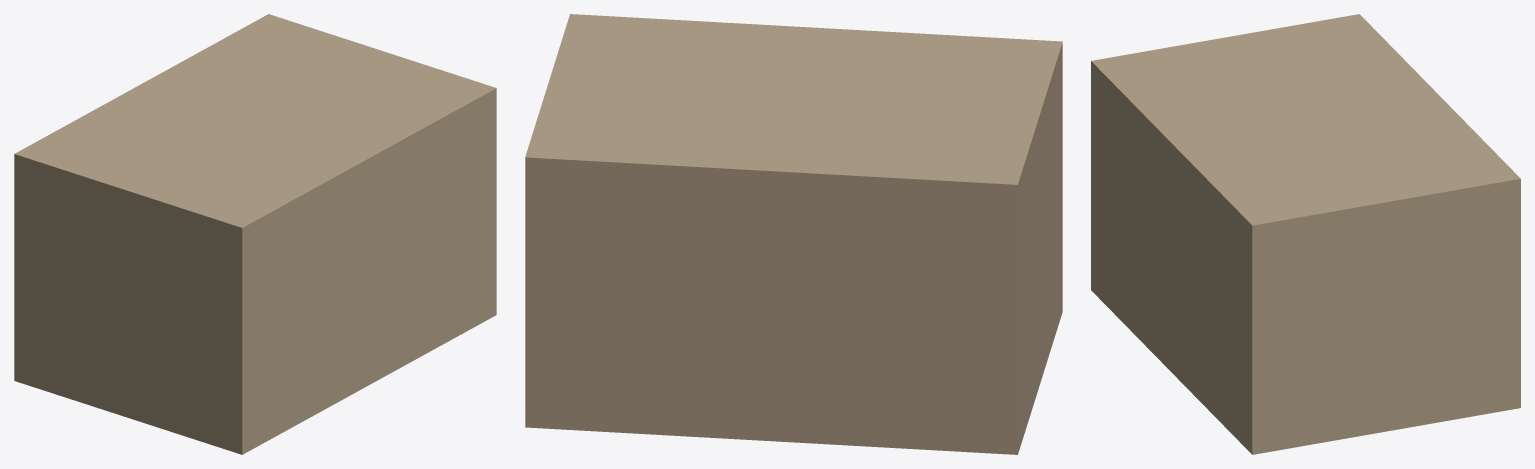
The model's file is bld_106338920.dae.
3 views of the same model, side by side, from view 1: azimuth 30°, elevation 25°; view 2: azimuth 150°, elevation 25°; view 3: azimuth 270°, elevation 25° (orthographic). The views are drawn at different scales.
Visible parts, largest first — view 1: bld_106338920; view 2: bld_106338920; view 3: bld_106338920.
Part boxes in pixels (x1,y1,x2,y2): bld_106338920: (14,14,496,454); bld_106338920: (525,14,1062,454); bld_106338920: (1091,14,1520,454).
Size of the model in its own units: 15.84 by 13.59 by 8.
